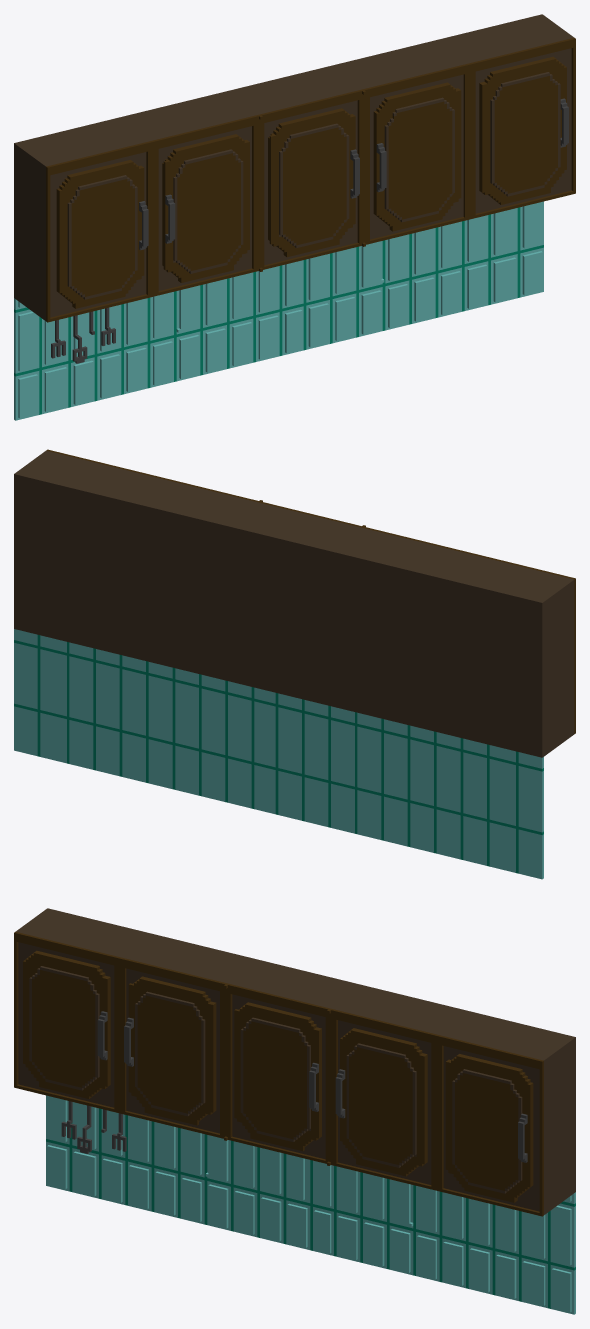
The model's file is cajonera.obj.
3 views of the same model, one above another, from view 1: azimuth 30°, elevation 25°; view 2: azimuth 150°, elevation 25°; view 3: azimuth 330°, elevation 25° (orthographic).
Bounding box in the file's own units: 20 × 10 × 2.6.
Materials: 1 (1 with a texture image).
